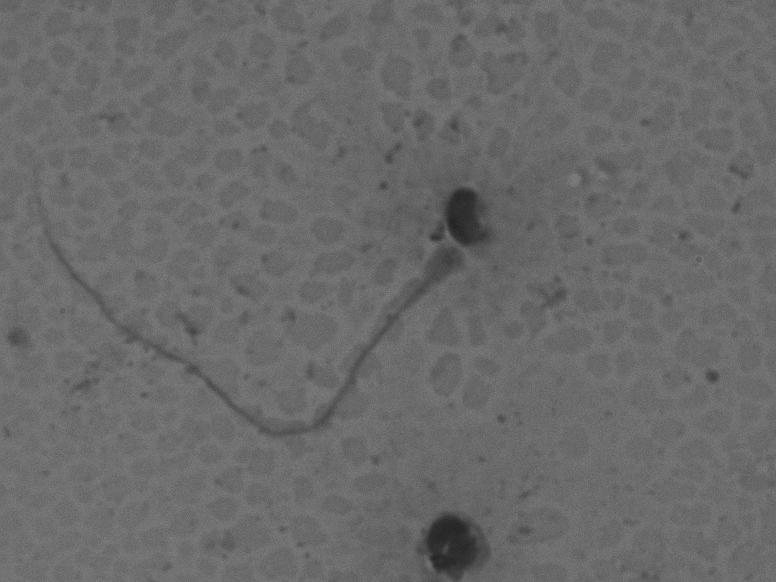Abnormal: (20, 129, 496, 460)
